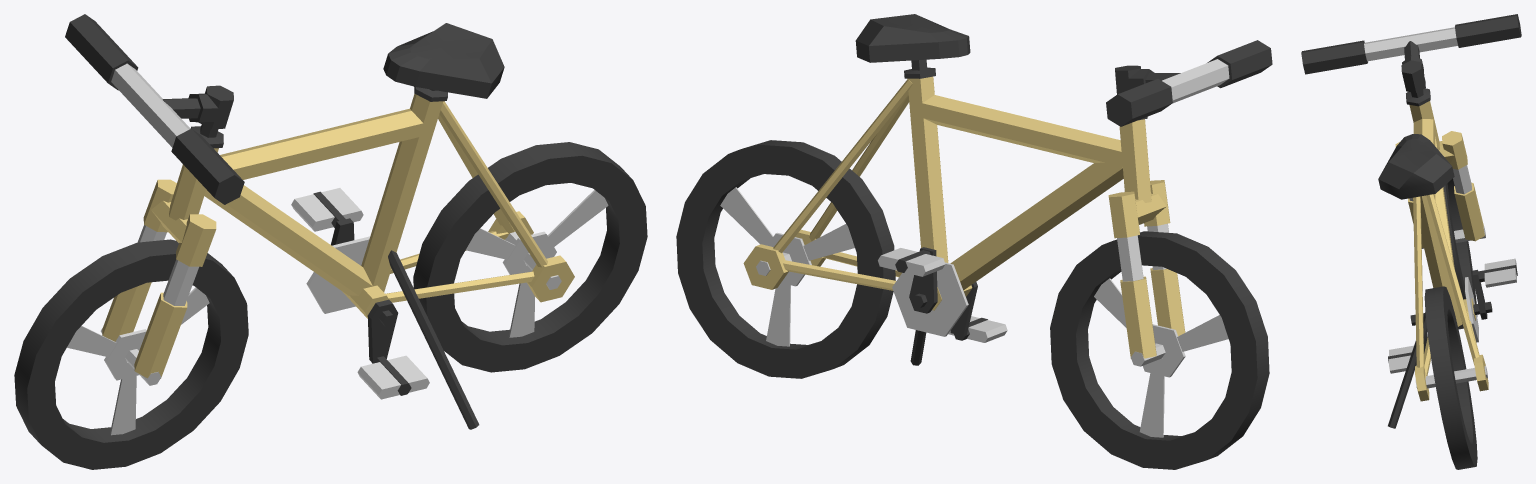
File: parked_bike.fbx
3 views of the same model, side by side, from view 1: azimuth 30°, elevation 25°; view 2: azimuth 150°, elevation 25°; view 3: azimuth 270°, elevation 25° (orthographic). The views are drawn at different scales.
Parts seen in each view (by area): view 1: polySurface2, pPipe1, pPipe3, polySurface29, polySurface1, pPlane5, pPlane3; view 2: polySurface2, pPipe1, pPipe3, polySurface29, polySurface1, pPlane3, pPlane5; view 3: polySurface29, polySurface2, pPipe3, polySurface1, pPipe1, pPlane5.
Boxes of the visible parts, x1,y1,x2,y2 form: polySurface2: (102, 93, 574, 378); pPipe1: (14, 239, 248, 469); pPipe3: (413, 142, 647, 372); polySurface29: (65, 14, 504, 429); polySurface1: (291, 188, 429, 399); pPlane5: (466, 190, 608, 337); pPlane3: (67, 287, 209, 435); polySurface2: (743, 76, 1185, 358); pPipe1: (1050, 231, 1269, 469); pPipe3: (676, 140, 895, 378); polySurface29: (855, 14, 1272, 365); polySurface1: (878, 247, 1007, 342); pPlane3: (1094, 278, 1228, 437); pPlane5: (720, 187, 854, 346); polySurface29: (1301, 14, 1521, 428); polySurface2: (1395, 101, 1488, 401); pPipe3: (1424, 286, 1477, 469); polySurface1: (1388, 258, 1517, 373); pPipe1: (1443, 178, 1477, 329); pPlane5: (1415, 366, 1487, 388).
Size of the model in its own units: 116 by 75.72 by 49.29.
